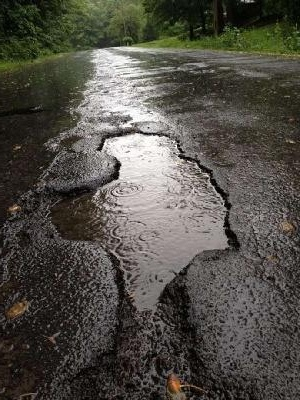pothole: (46, 125, 244, 309)
